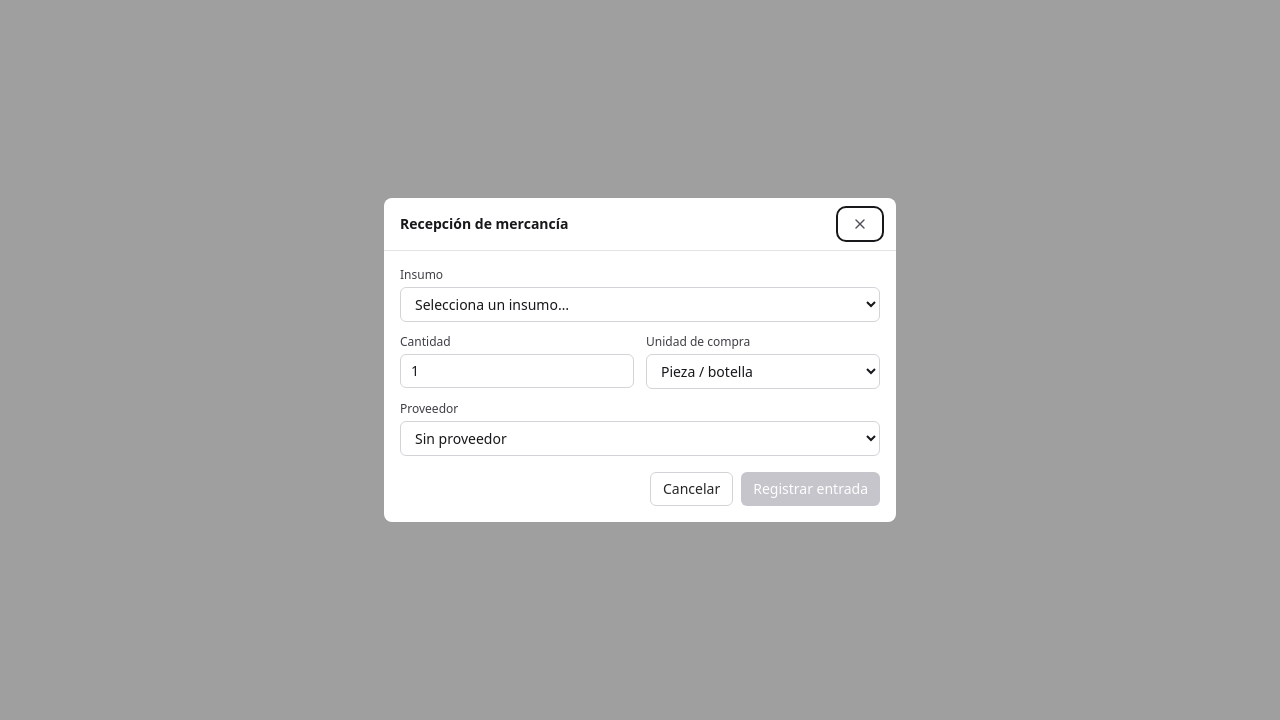
Test: <ModalRecibirMercancia> › pide marbete solo para lo que se controla como botella
Select "Espadín Joven" in the dropdown labelled "Insumo" at (640, 304), box [400, 287, 880, 322]
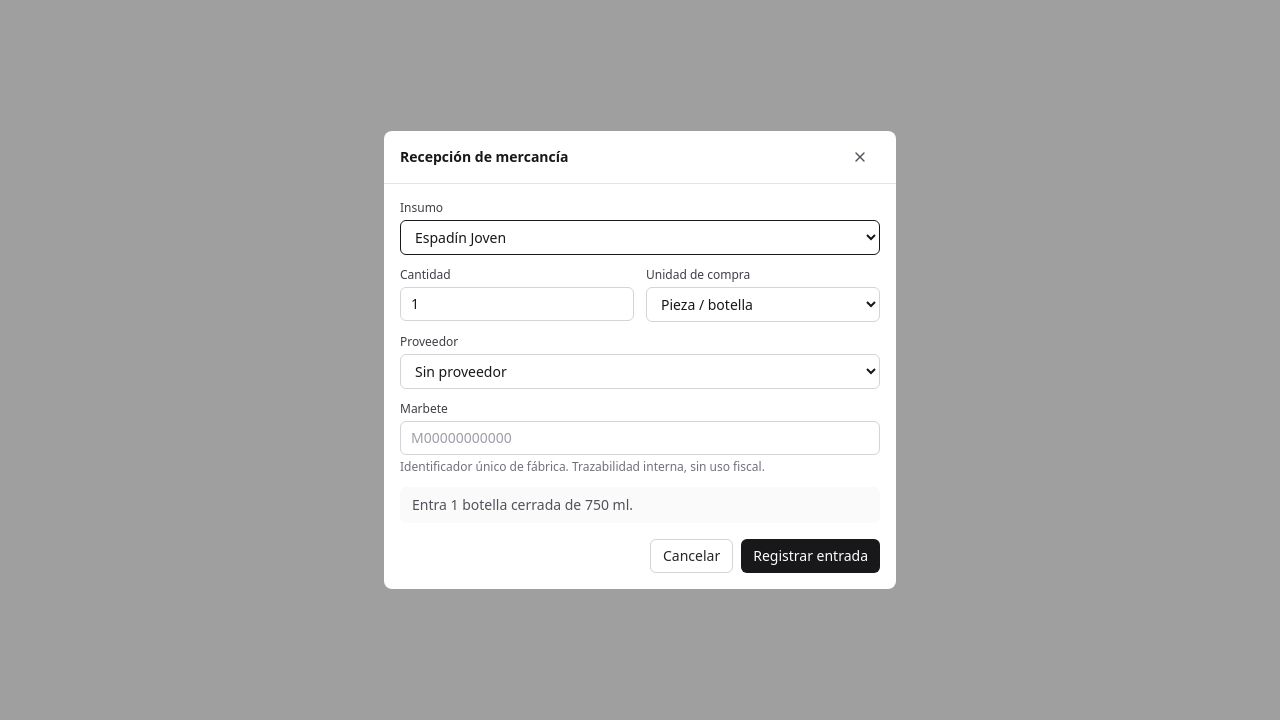
Expected: the field labelled "Marbete" is shown, [400, 421, 880, 455]
Select "Hielo" in the dropdown labelled "Insumo" at (640, 238), box [400, 220, 880, 255]
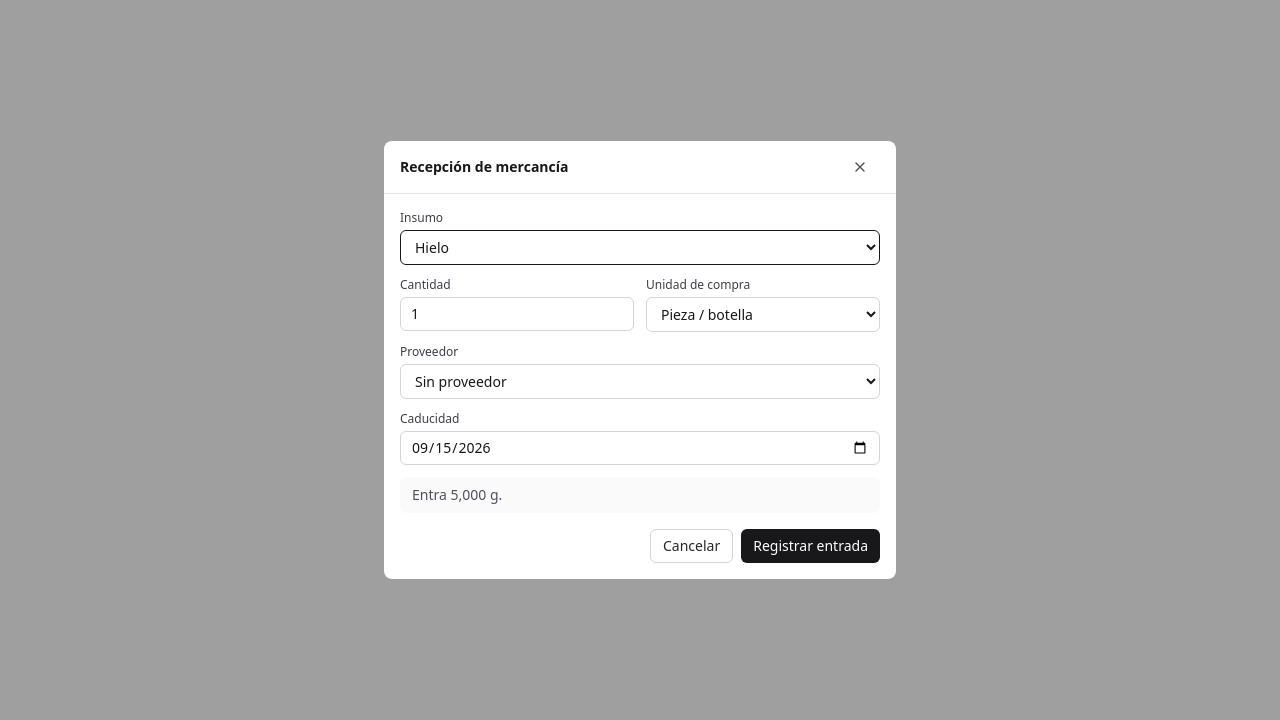
Expected: the label labelled "Marbete" is gone
